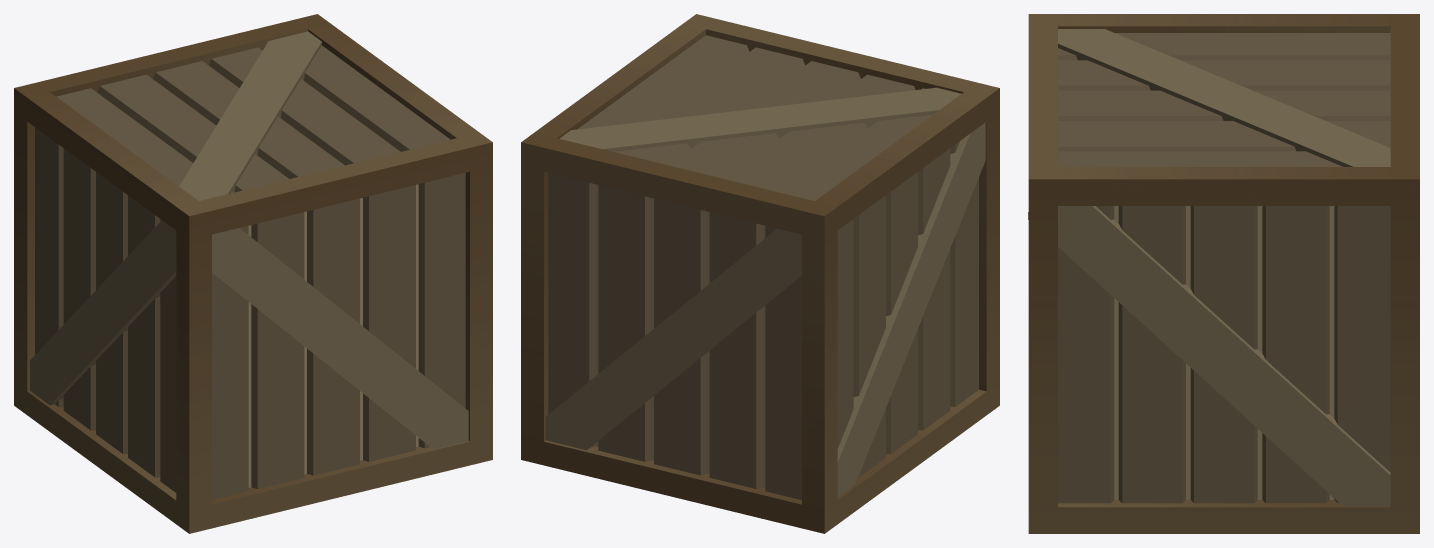
File: Crate_1B.fbx
3 renders of one model, left to right at view 1: azimuth 30°, elevation 25°; view 2: azimuth 150°, elevation 25°; view 3: azimuth 270°, elevation 25°, orthographic. The views are drawn at different scales.
Parts seen in each view (by area): view 1: polySurface9643; view 2: polySurface9643; view 3: polySurface9643.
Part boxes in pixels (x1,y1,x2,y2): polySurface9643: (14,14,492,533); polySurface9643: (521,14,999,533); polySurface9643: (1028,14,1419,533).
Size of the model in its own units: 122 by 122 by 123.
